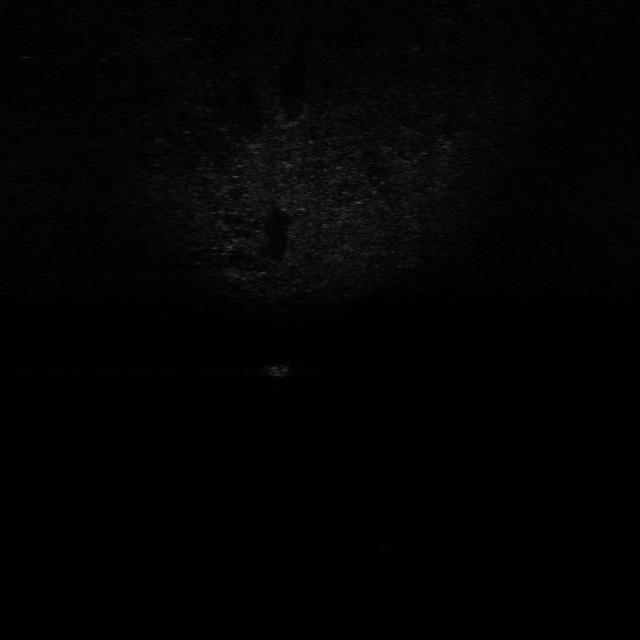cube: (262, 357, 294, 380)
